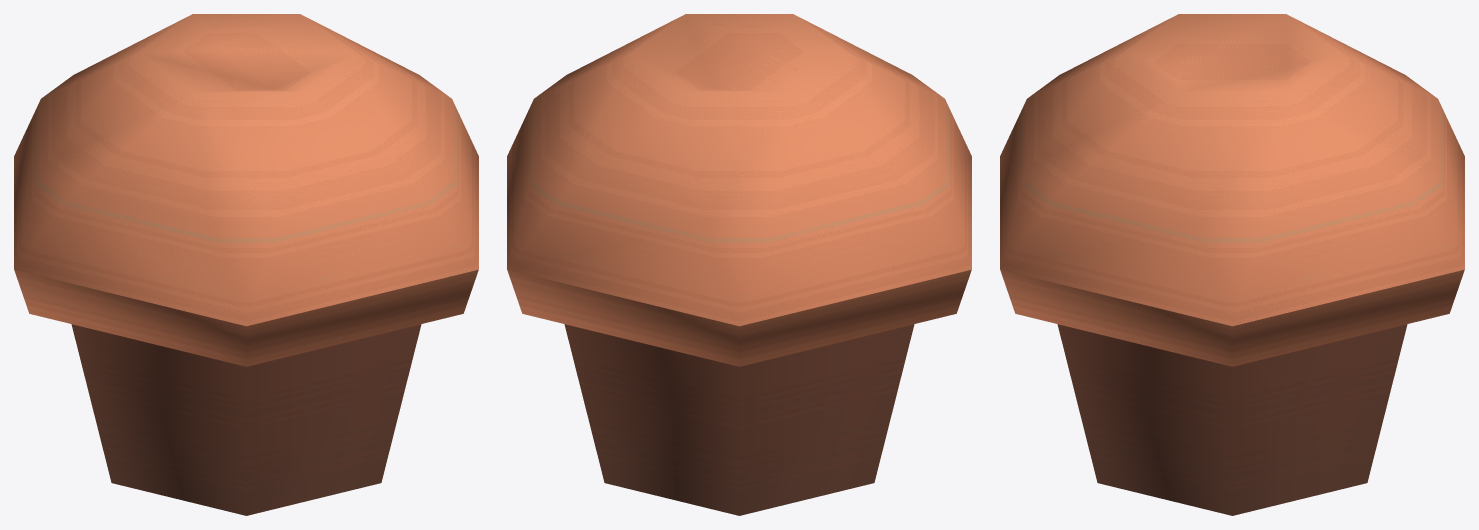
Rendered from muffin.glb.
3 renders of one model, left to right at view 1: azimuth 30°, elevation 25°; view 2: azimuth 150°, elevation 25°; view 3: azimuth 270°, elevation 25°, orthographic.
Visible parts, largest first — view 1: muffin; view 2: muffin; view 3: muffin.
Boxes of the visible parts, box(x1,y1,x2,y2) form: muffin: box(14, 14, 478, 515); muffin: box(507, 14, 971, 515); muffin: box(1000, 14, 1464, 515).
Bounding box in the file's own units: 0.3047 × 0.2486 × 0.2639.
1 material, 1 textured.
